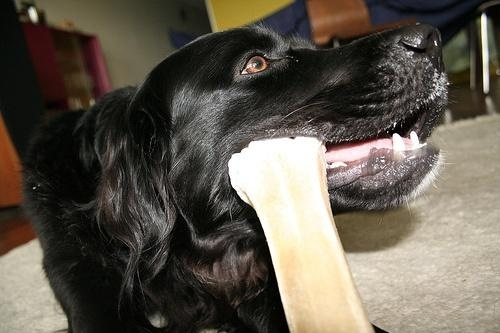dog: (29, 25, 458, 330)
